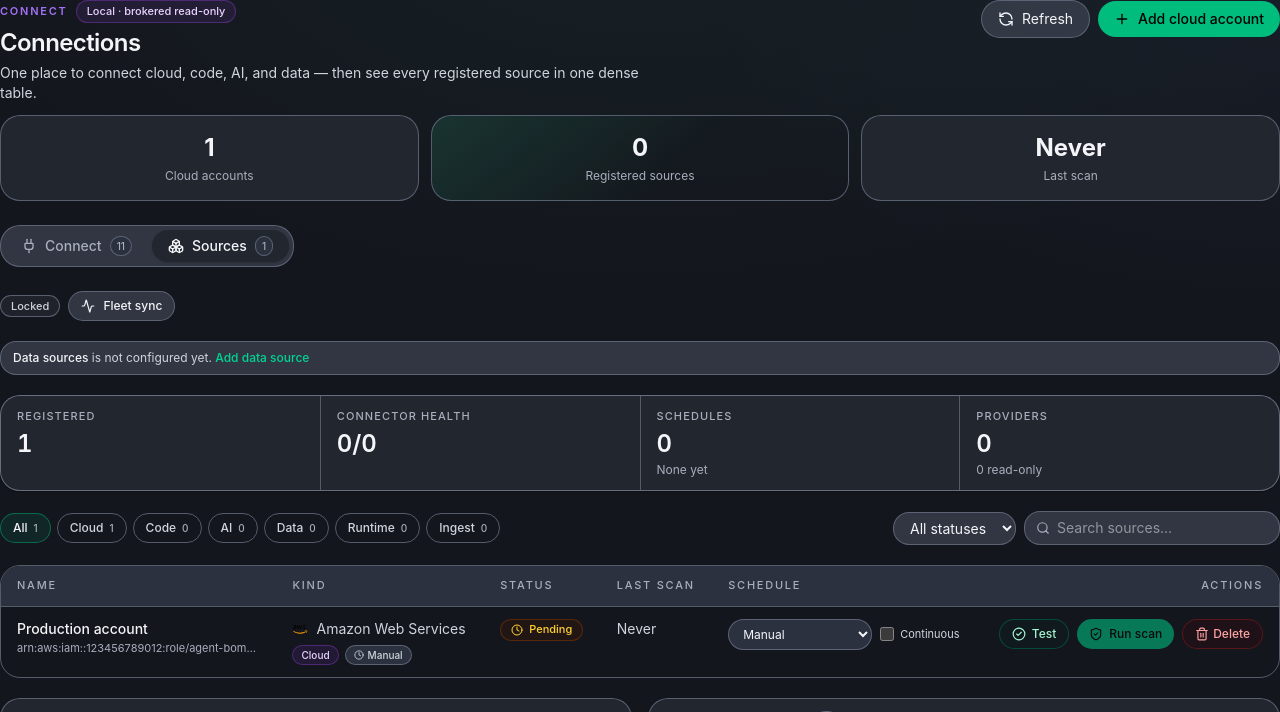
Test: ConnectionsPage — Sources segment (unified table) › updates the recurring scan schedule without exposing secrets
Expected: the text "Production account" is shown, 17,619 -> 148,639
Select "Hourly" in the dropdown named "Scan schedule" next to "Continuous": (800, 634) 728,619 -> 872,650
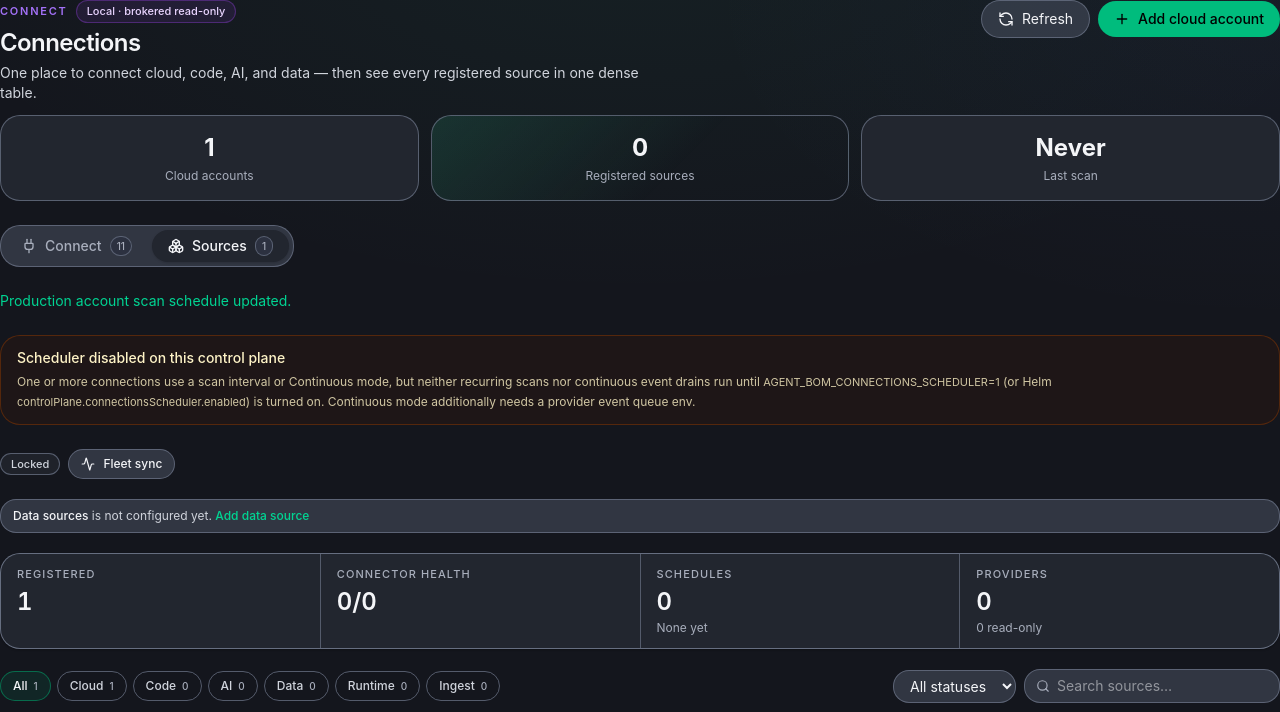
Now the text "Production account scan schedule updated." is shown, box 0,292 -> 291,309
